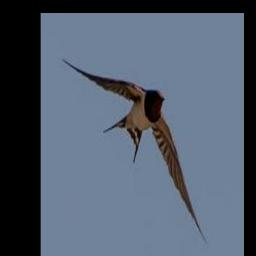Swallow: (61, 59, 208, 247)
